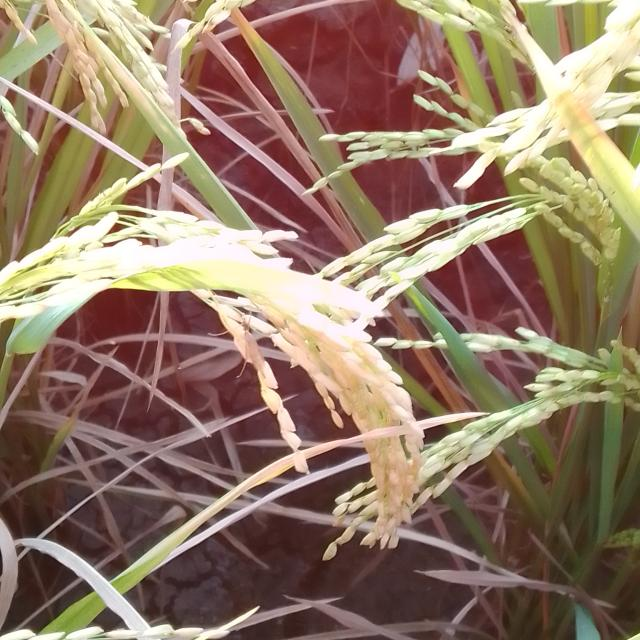green leaf hopper: (200, 303, 286, 394)
